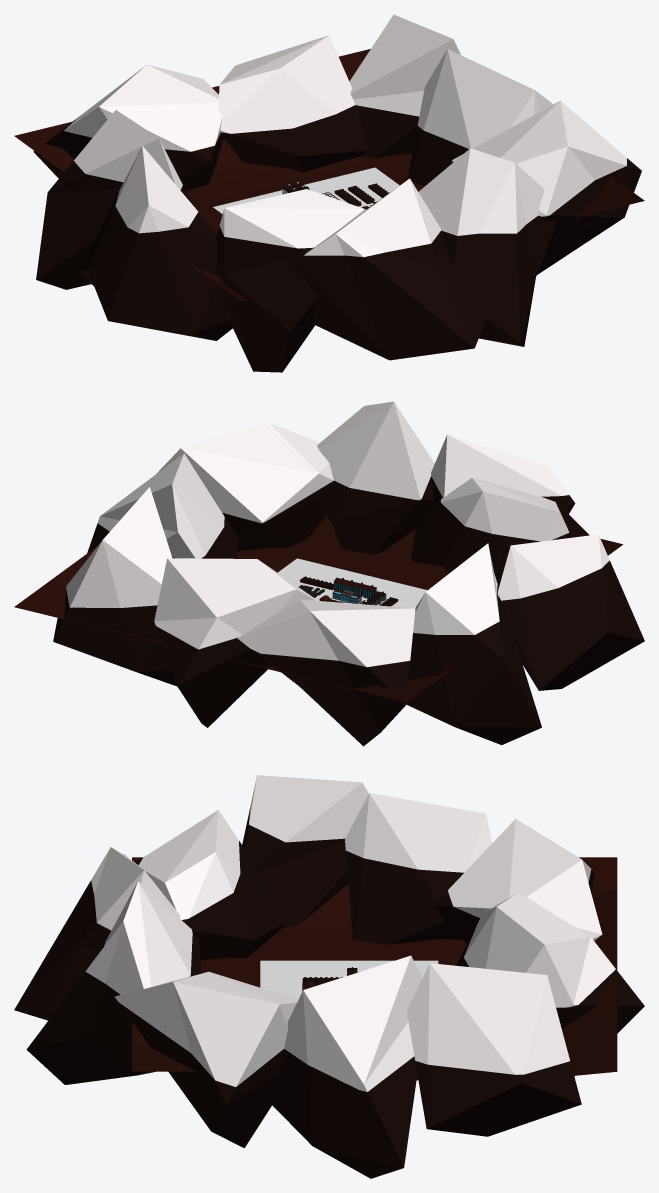
File: GlazVezel_V02.FBX
3 renders of one model, top to bottom at view 1: azimuth 30°, elevation 25°; view 2: azimuth 150°, elevation 25°; view 3: azimuth 270°, elevation 25°, orthographic. The views are drawn at different scales.
Parts seen in each view (by area): view 1: GeoSphere145, GeoSphere144, Plane002, Plane001; view 2: GeoSphere144, GeoSphere145, Plane002, Plane001; view 3: GeoSphere144, GeoSphere145, Plane002, Plane001.
Part boxes in pixels (<box>): GeoSphere145: <box>33,105,641,372</box>; GeoSphere144: <box>64,14,626,257</box>; Plane002: <box>14,49,644,301</box>; Plane001: <box>213,167,399,213</box>; GeoSphere144: <box>66,401,609,667</box>; GeoSphere145: <box>53,476,644,746</box>; Plane002: <box>14,516,622,702</box>; Plane001: <box>278,558,427,608</box>; GeoSphere144: <box>85,775,615,1091</box>; GeoSphere145: <box>14,808,644,1178</box>; Plane002: <box>132,857,617,1080</box>; Plane001: <box>260,960,438,999</box>.
Size of the model in its own units: 82471 by 31377 by 79614.
